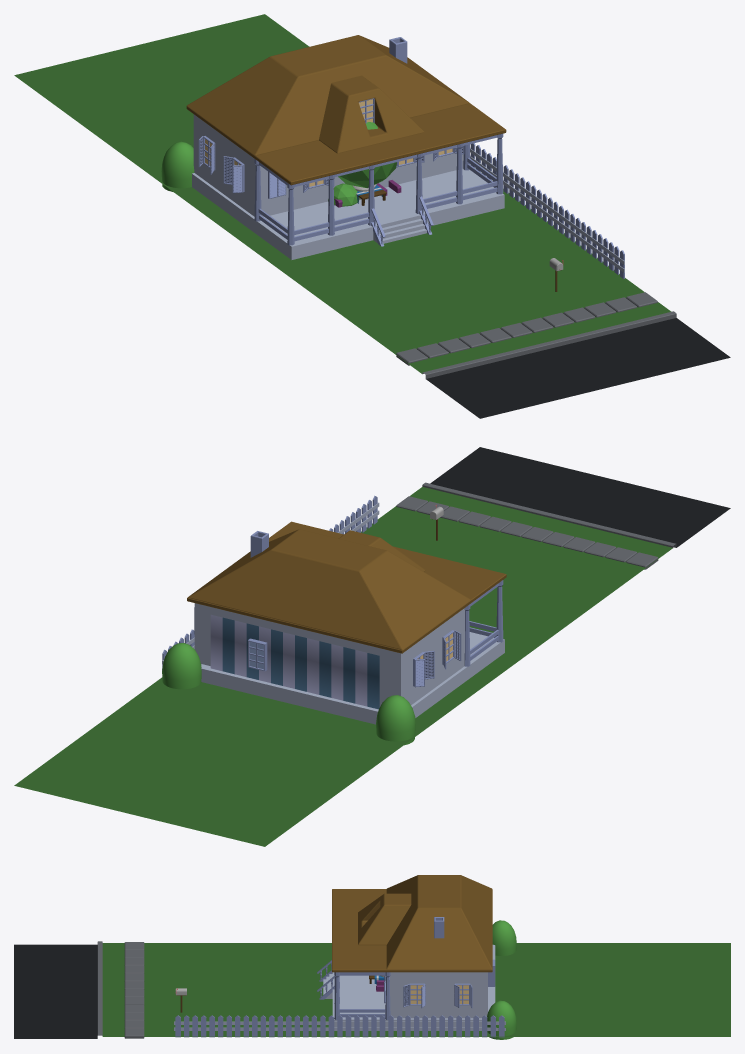
Rendered from House (fixed window).fbx.
3 views of the same model, one above another, from view 1: azimuth 30°, elevation 25°; view 2: azimuth 150°, elevation 25°; view 3: azimuth 270°, elevation 25° (orthographic). The views are drawn at different scales.
Visible parts, largest first — view 1: Earth, Cube.037, Cube.024, Rock, Bush, tree; view 2: Earth, Cube.037, Room, Rock, Bush, Cube.024; view 3: Earth, Cube.037, Cube.024, Rock, Bush.
Part boxes in pixels (box(x1,y1,x2,y2)): Earth: box(14, 14, 730, 418); Cube.037: box(186, 35, 506, 259); Cube.024: box(470, 143, 624, 278); Rock: box(396, 292, 657, 365); Bush: box(161, 141, 194, 191); tree: box(338, 122, 396, 188); Earth: box(14, 447, 730, 846); Cube.037: box(187, 521, 506, 724); Room: box(210, 614, 379, 709); Rock: box(396, 496, 658, 569); Bush: box(162, 643, 415, 745); Cube.024: box(162, 495, 379, 670); Earth: box(14, 941, 730, 1038); Cube.037: box(317, 875, 495, 1027); Cube.024: box(174, 1015, 505, 1037); Rock: box(124, 942, 144, 1038); Bush: box(487, 920, 516, 1039).
Size of the model in its own units: 2061 by 1040 by 6630.
